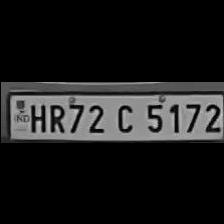1: (164, 100, 182, 132)
2: (83, 99, 107, 133), (200, 100, 222, 132)
5: (139, 98, 165, 132)
7: (64, 100, 84, 132), (181, 100, 201, 132)
C: (110, 100, 136, 132)
H: (25, 100, 45, 132)
R: (44, 100, 64, 132)
